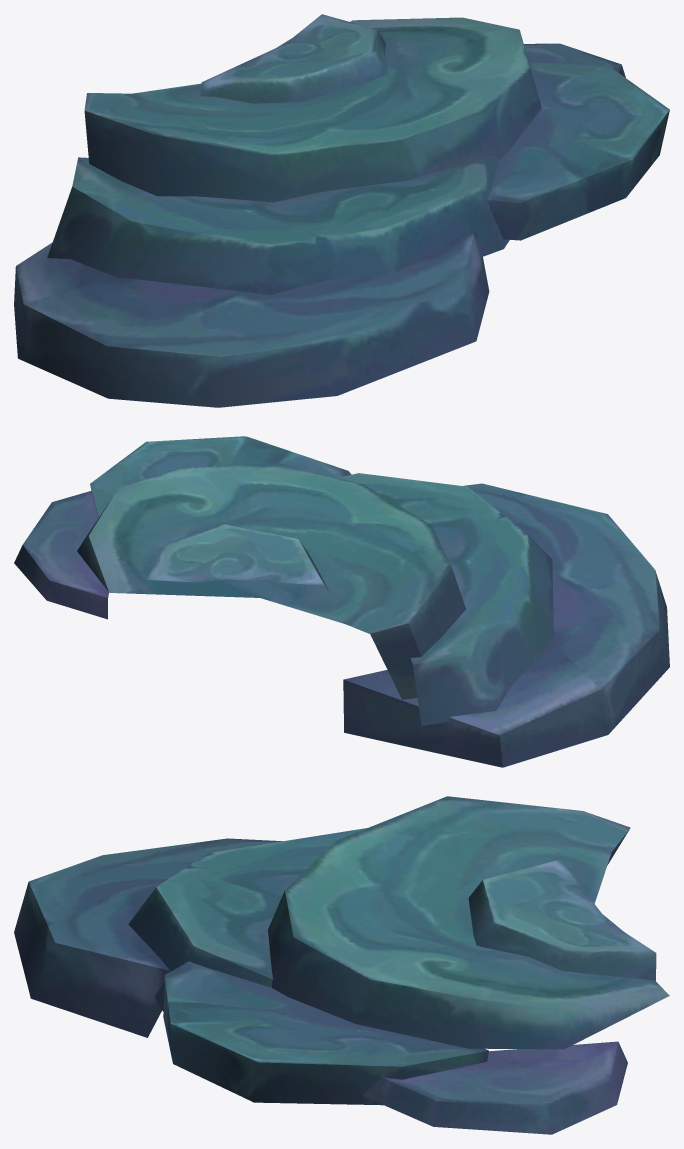
Rendered from map_113_shitou_5.fbx.
3 renders of one model, top to bottom at view 1: azimuth 30°, elevation 25°; view 2: azimuth 150°, elevation 25°; view 3: azimuth 270°, elevation 25°, orthographic. The views are drawn at different scales.
Visible parts, largest first — view 1: map_113_shitou_5; view 2: map_113_shitou_5; view 3: map_113_shitou_5.
Part boxes in pixels (left/top/right/bottom): map_113_shitou_5: left=14, top=14, right=669, bottom=407; map_113_shitou_5: left=14, top=436, right=669, bottom=767; map_113_shitou_5: left=14, top=796, right=669, bottom=1134.
Size of the model in its own units: 2.02 by 0.565 by 1.6.
